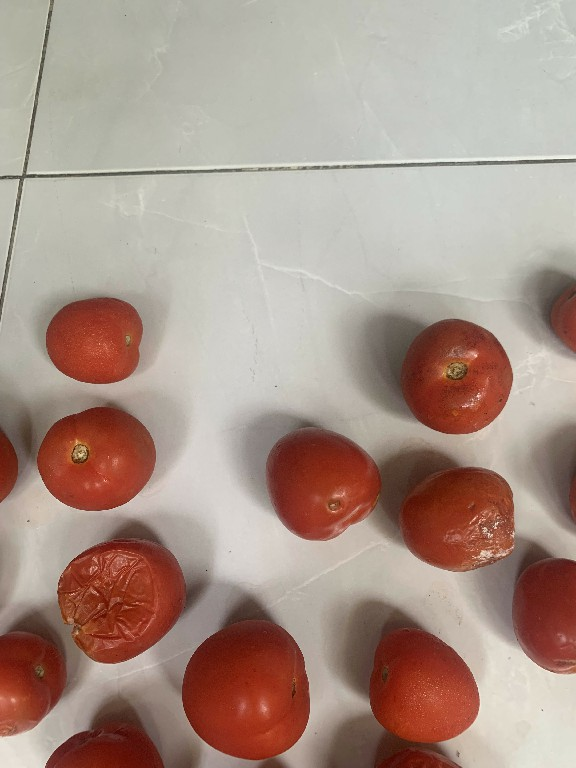NG: (47, 531, 186, 662), (260, 422, 385, 541), (401, 460, 513, 576), (502, 555, 575, 676), (0, 628, 64, 739)
OK: (171, 621, 310, 759), (364, 615, 481, 749), (33, 404, 159, 515), (399, 312, 509, 435), (40, 294, 147, 384)
